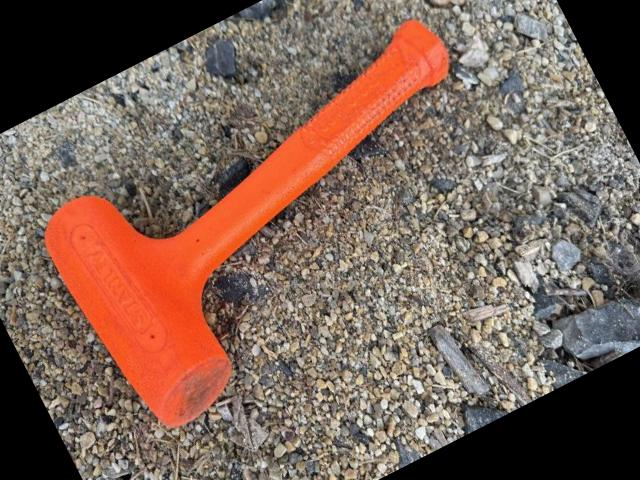hammer: (27, 9, 544, 442)
